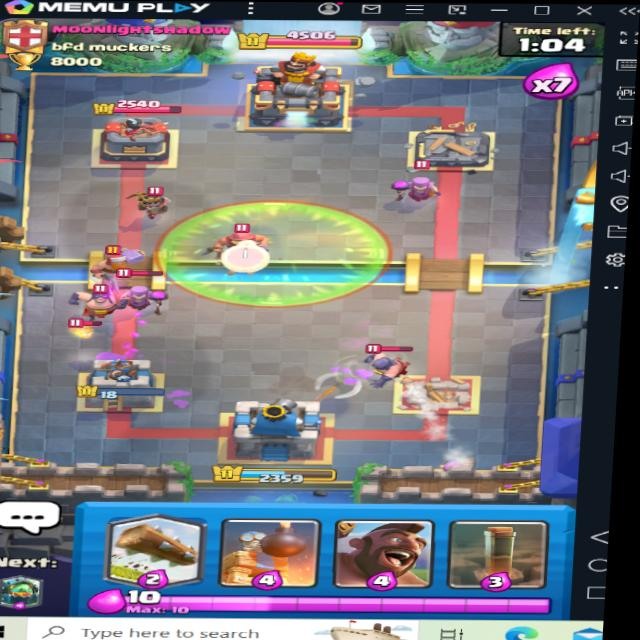executioner: (61, 280, 138, 322), (358, 342, 419, 384)
fisherman: (199, 222, 273, 271)
goblin-curse: (152, 199, 398, 309)
little-prince: (124, 185, 175, 226)
lumberjack: (88, 236, 154, 275)
mother-witch: (104, 271, 174, 321), (385, 163, 443, 217)
